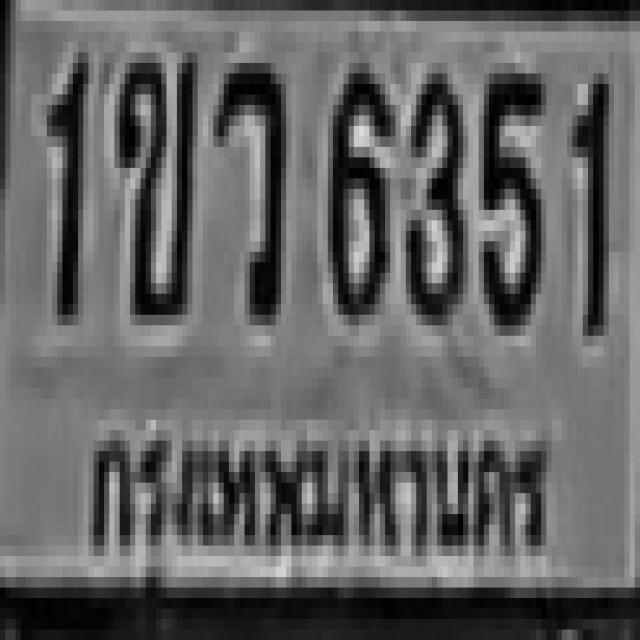1: (44, 47, 86, 310), (567, 63, 604, 325)
11KhorKhai: (114, 42, 192, 315)
3: (401, 63, 458, 315)
46WorWaen: (213, 52, 281, 315)
5: (479, 63, 541, 325)
6: (323, 52, 385, 315)
Bangkok: (78, 382, 556, 600)
